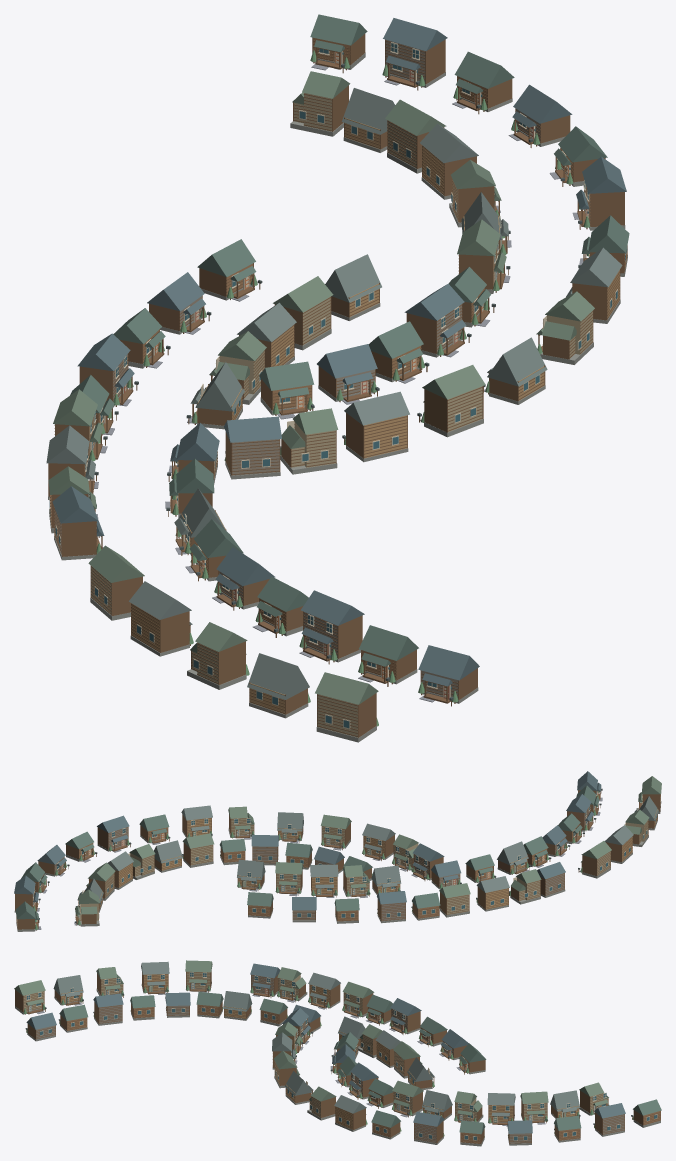
File: timber-bend.glb
The picture shows the model from 3 angles, top to bottom: view 1: azimuth 30°, elevation 25°; view 2: azimuth 150°, elevation 25°; view 3: azimuth 270°, elevation 25°; orthographic projection. The views are drawn at different scales.
Parts seen in each view (by area): view 1: river_house_05.018, river_house_02.020, river_house_02.014, river_house_07.014, river_house_07.018, river_house_05.015, river_house_02.017, river_house_03.018, river_house_03.019, river_house_02.018, river_house_03.015, river_house_01.014 (+42 smaller); view 2: river_house_05.018, river_house_02.019, river_house_05.016, river_house_07.018, river_house_07.019, river_house_07.016, river_house_05.017, river_house_07.017, river_house_07.015, river_house_02.016, river_house_03.016, river_house_05.019 (+41 smaller); view 3: river_house_05.016, river_house_07.014, river_house_05.019, river_house_07.019, river_house_02.016, river_house_02.020, river_house_05.015, river_house_02.019, river_house_02.014, river_house_02.015, river_house_05.020, river_house_07.016 (+42 smaller).
Boxes of the visible parts, x1,y1,x2,y2 form: river_house_05.018: (342, 391, 409, 462); river_house_02.020: (382, 18, 447, 90); river_house_02.014: (299, 590, 364, 664); river_house_07.014: (315, 672, 378, 742); river_house_07.018: (417, 365, 485, 437); river_house_05.015: (129, 581, 193, 656); river_house_02.017: (224, 416, 281, 479); river_house_03.018: (280, 408, 338, 474); river_house_03.019: (536, 291, 594, 364); river_house_02.018: (404, 283, 471, 357); river_house_03.015: (187, 622, 249, 689); river_house_01.014: (247, 653, 310, 718); river_house_05.018: (362, 823, 395, 860); river_house_02.019: (97, 815, 131, 852); river_house_05.016: (476, 876, 509, 911); river_house_07.018: (320, 814, 351, 850); river_house_07.019: (182, 833, 214, 867); river_house_07.016: (439, 883, 470, 917); river_house_05.017: (310, 864, 338, 897); river_house_07.017: (275, 862, 303, 896); river_house_07.015: (578, 841, 611, 878); river_house_02.016: (377, 891, 406, 923); river_house_03.016: (509, 869, 541, 904); river_house_05.019: (181, 805, 212, 837); river_house_05.016: (308, 972, 340, 1009); river_house_07.014: (14, 980, 46, 1014); river_house_05.019: (334, 1095, 367, 1131); river_house_07.019: (392, 1080, 423, 1117); river_house_02.016: (389, 998, 421, 1034); river_house_02.020: (593, 1103, 625, 1136); river_house_05.015: (141, 961, 169, 994); river_house_02.019: (413, 1111, 444, 1144); river_house_02.014: (93, 993, 123, 1025); river_house_02.015: (250, 963, 280, 997); river_house_05.020: (487, 1093, 515, 1126); river_house_07.016: (342, 981, 374, 1018).
Bounding box in the file's own units: 121 × 18.23 × 173.
